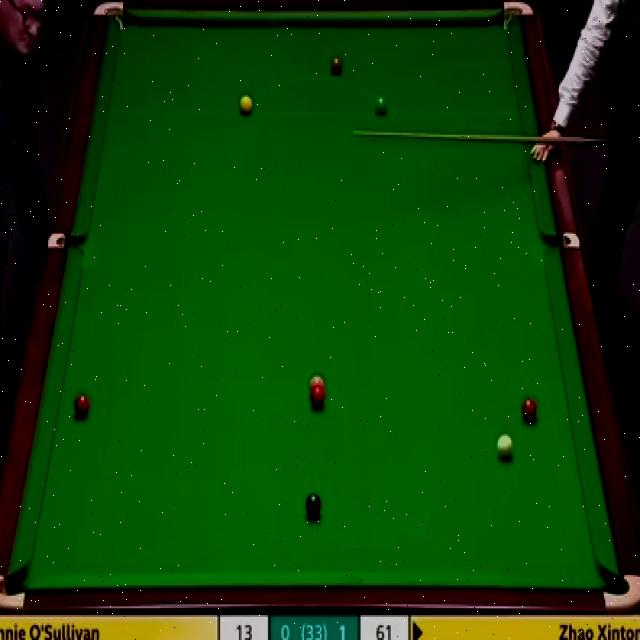black-ball: (305, 492, 322, 520)
brown-ball: (330, 56, 343, 76)
green-ball: (373, 94, 388, 116)
pink-ball: (308, 375, 326, 390)
red-ball: (520, 396, 538, 422), (74, 391, 90, 419), (309, 387, 326, 408)
white-ball: (496, 433, 514, 460)
yellow-ball: (242, 96, 254, 117)
